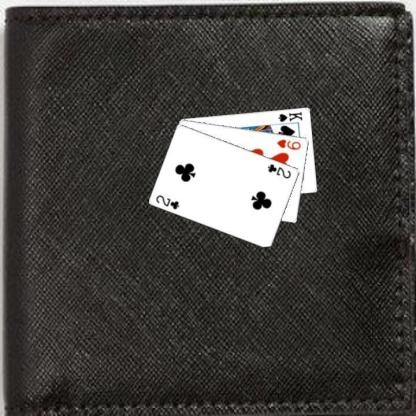2C: (265, 161, 292, 180), (154, 192, 181, 210)
9H: (275, 136, 302, 151)
KS: (276, 109, 304, 123)
